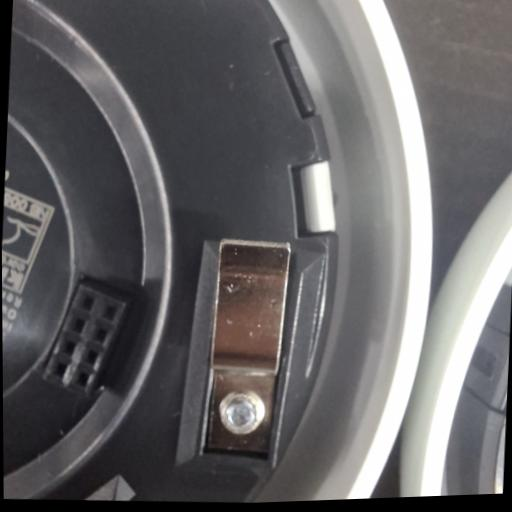yaysiz: (200, 231, 295, 463)
